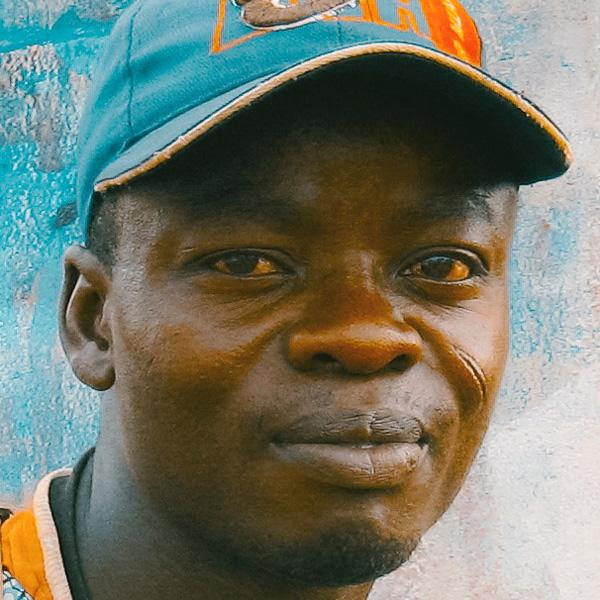Eyes: (185, 232, 305, 297), (391, 236, 493, 300)
